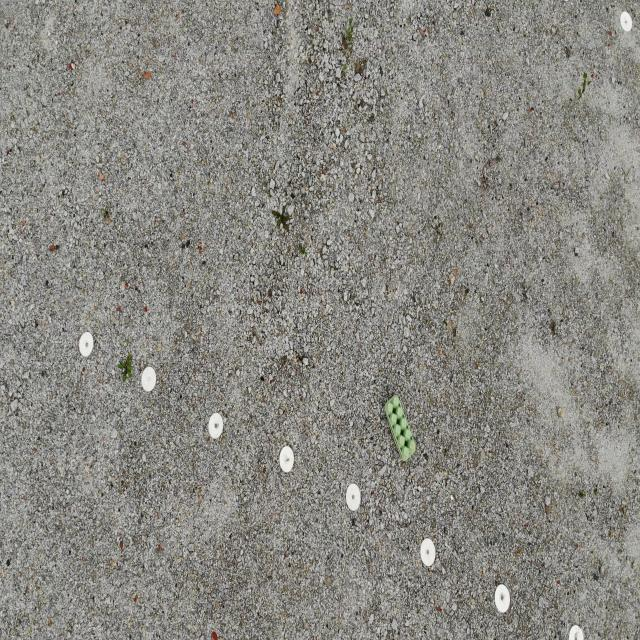rubbish: (383, 393, 416, 460)
